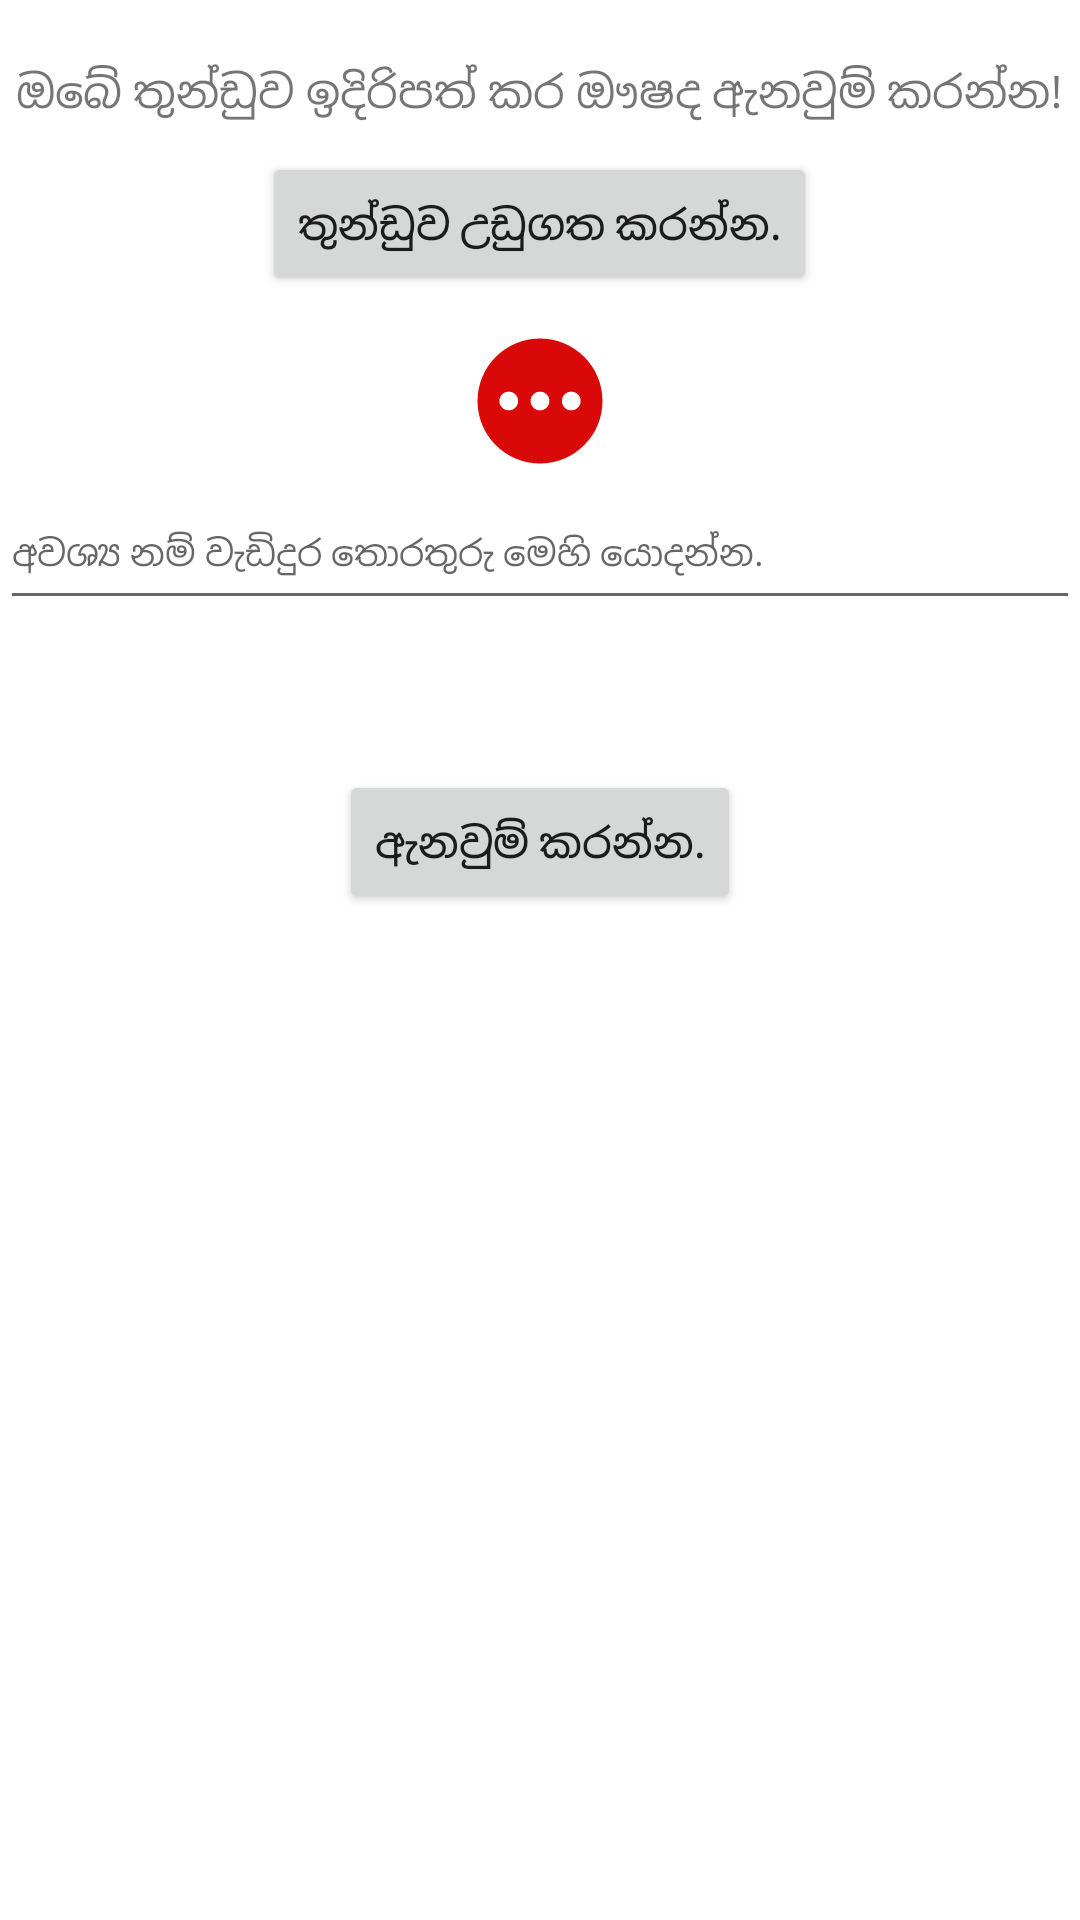

Icon bounding boxes for this 1080px x 1920px phone screenshot, format (x1=x1, y1=y1, x2=x2, y2=y2):
pending: (x1=477, y1=338, x2=603, y2=464)
